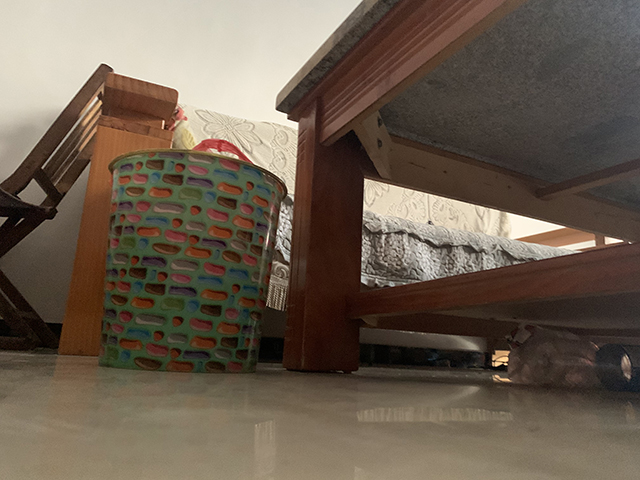table: (272, 1, 640, 372)
trashcan: (95, 147, 288, 373)
